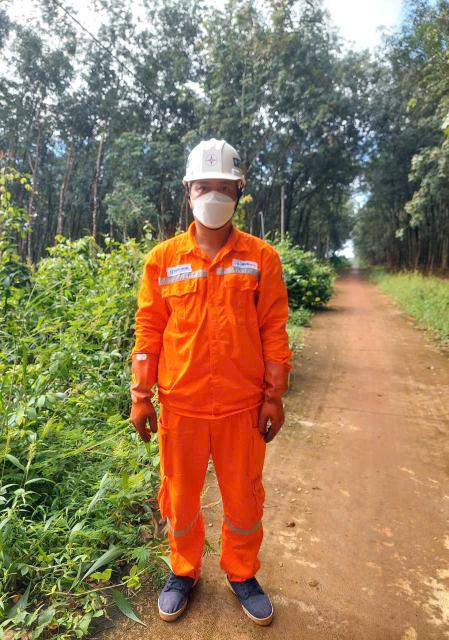gloves: (257, 359, 305, 455), (122, 339, 158, 458)
helmet: (175, 136, 251, 191)
shoes: (222, 554, 289, 633), (152, 559, 199, 628)
